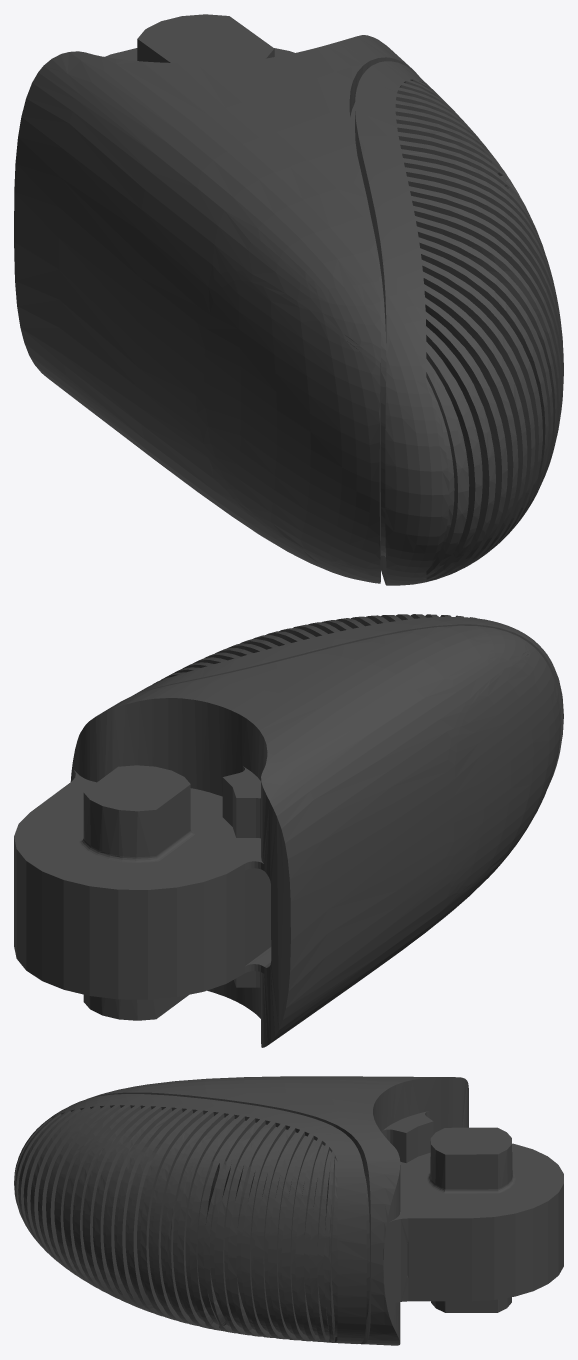
Rendered from lh_index_distal_vis.obj.
3 renders of one model, top to bottom at view 1: azimuth 30°, elevation 25°; view 2: azimuth 150°, elevation 25°; view 3: azimuth 270°, elevation 25°, orthographic. The views are drawn at different scales.
Parts seen in each view (by area): view 1: lh_index_distal; view 2: lh_index_distal; view 3: lh_index_distal.
Boxes of the visible parts, <box> form: lh_index_distal: <box>14,14,563,585</box>; lh_index_distal: <box>14,614,563,1047</box>; lh_index_distal: <box>14,1076,563,1345</box>.
Size of the model in its own units: 0.015 by 0.0145 by 0.033.
1 material, 1 textured.
